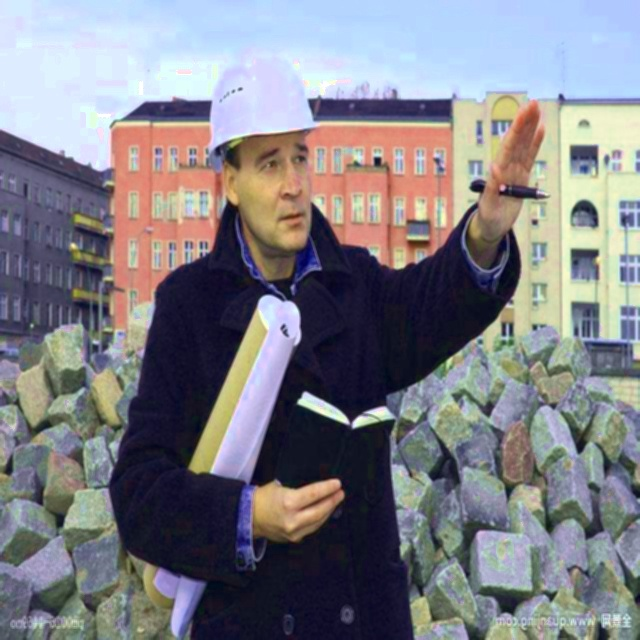Con_Casco: (205, 53, 323, 248)
Sin_Chaleco: (162, 245, 408, 640)
